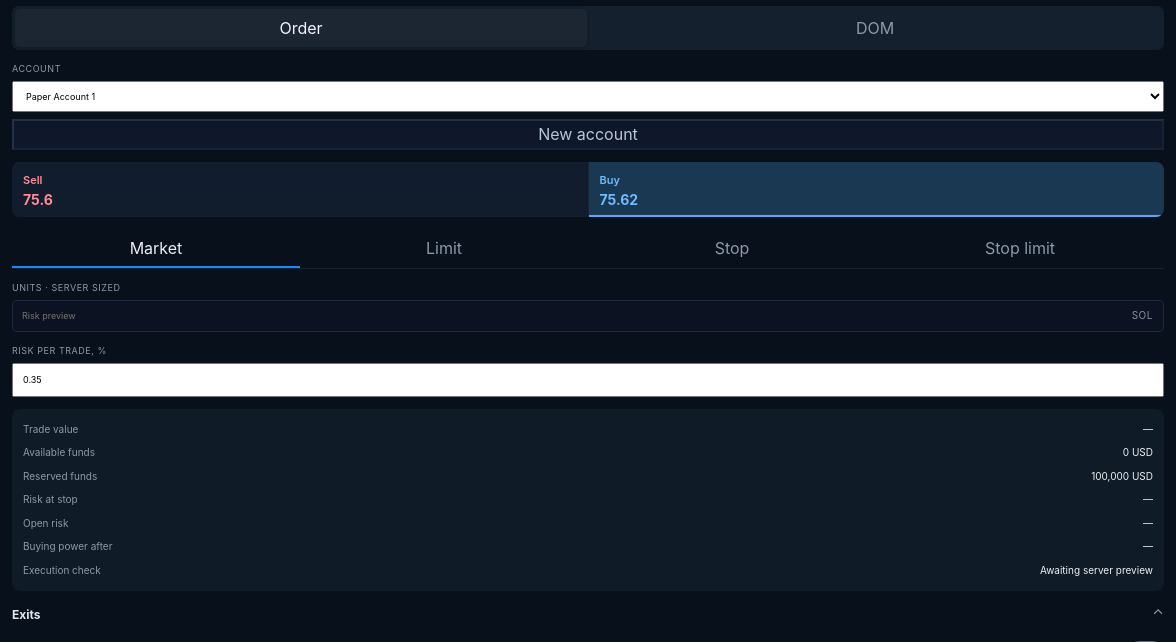
Test case: TradingPaperPanel › refuses a good-till-date expiry in the past
Click the button "Sell 75.6" at {"x": 33, "y": 180}, box top-left (12, 162), bottom-right (588, 217)
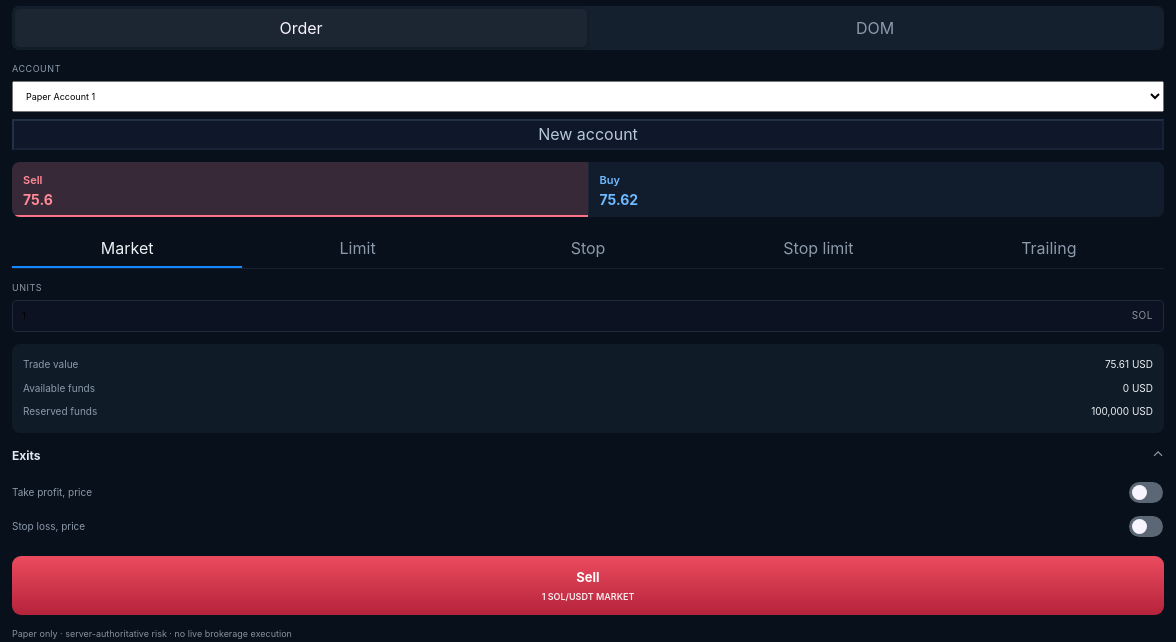
Click the tab "Limit" at {"x": 358, "y": 249}, box top-left (242, 229), bottom-right (473, 268)
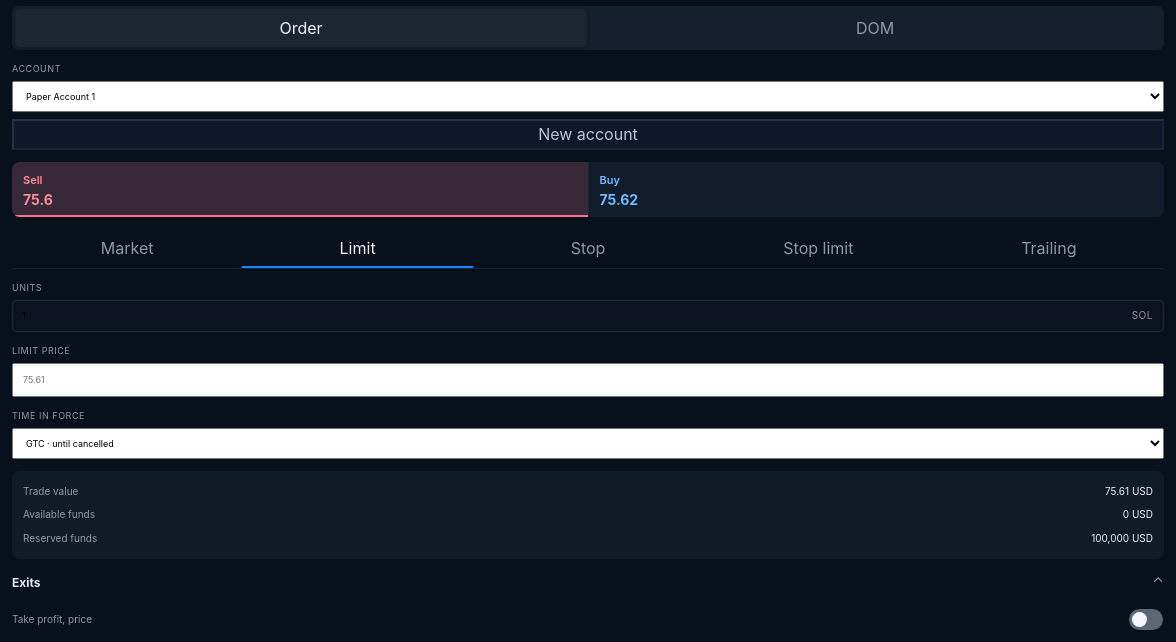
Type "80" into the field labelled "Limit price" at {"x": 588, "y": 380}, box top-left (12, 363), bottom-right (1164, 397)
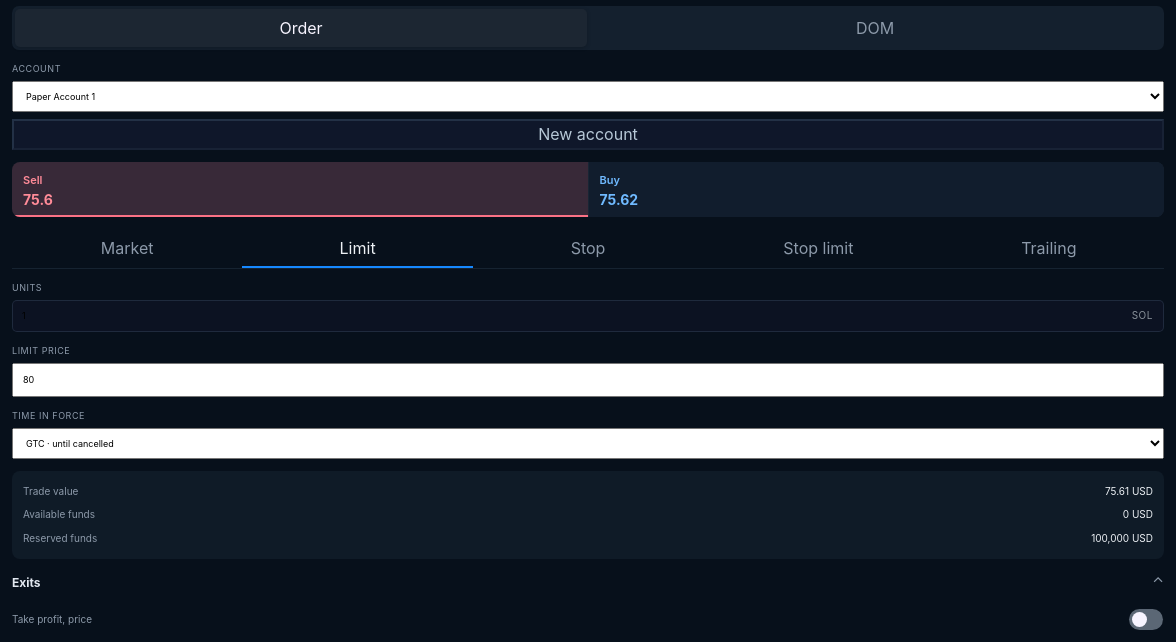
Select "GTD · until a date" in the dropdown labelled "Time in force" at {"x": 588, "y": 443}, box top-left (12, 428), bottom-right (1164, 459)
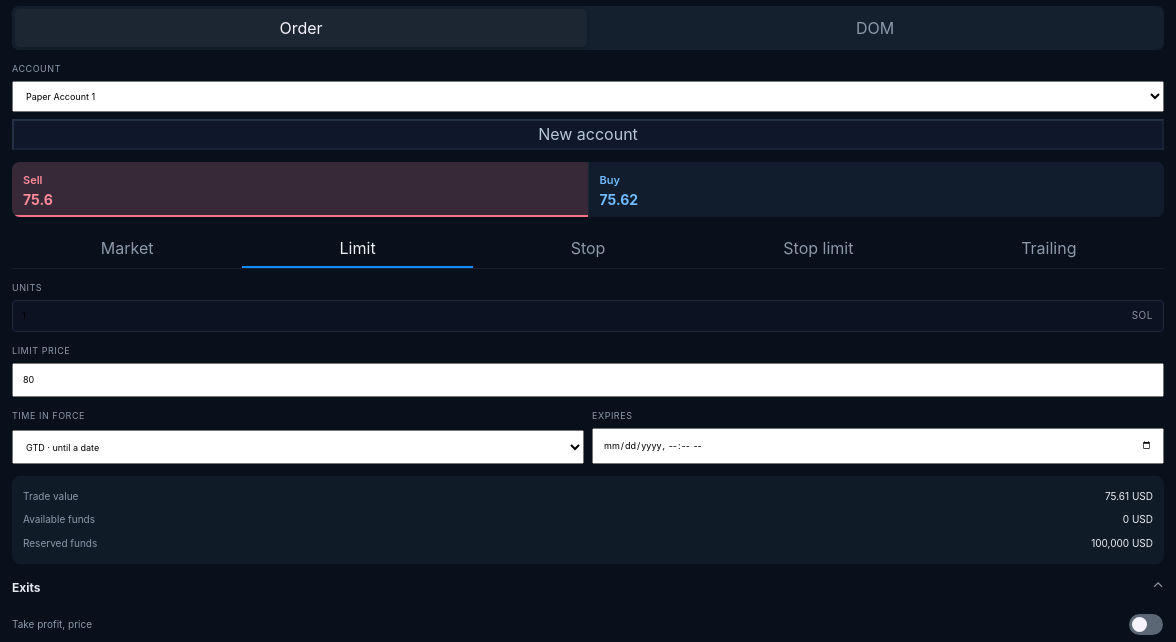
Type "2020-01-02T15:30" into the field named "Order expiry" at {"x": 878, "y": 446}, box top-left (592, 428), bottom-right (1164, 464)
(page scrolled)
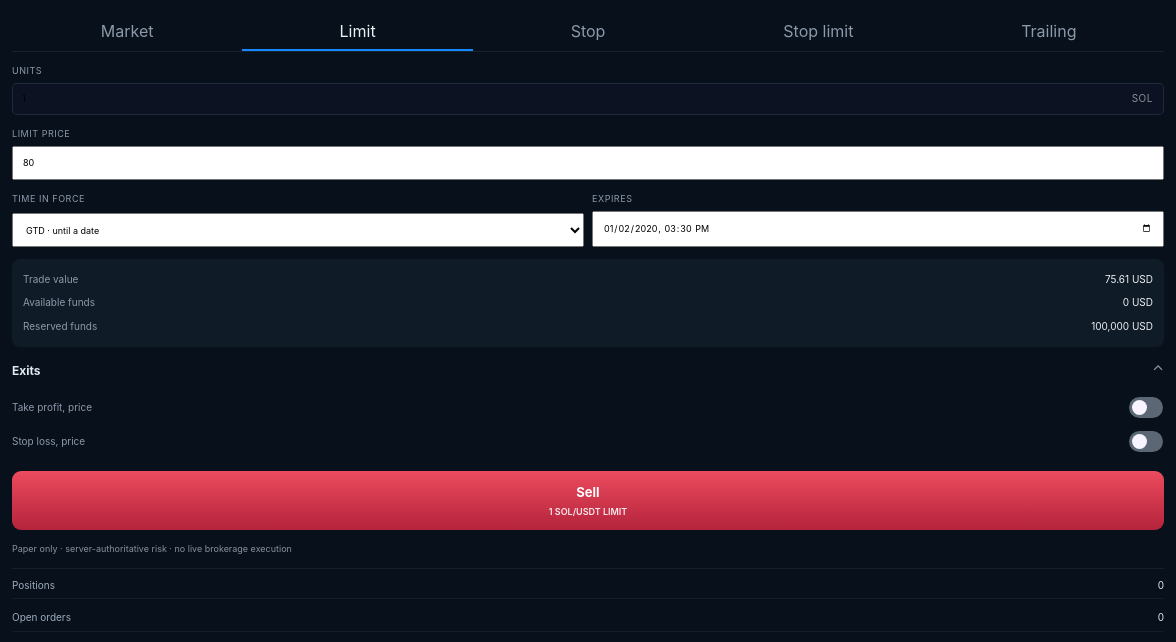
Click the button "Sell 1 SOL/USDT LIMIT" at {"x": 588, "y": 500}, box top-left (12, 471), bottom-right (1164, 530)
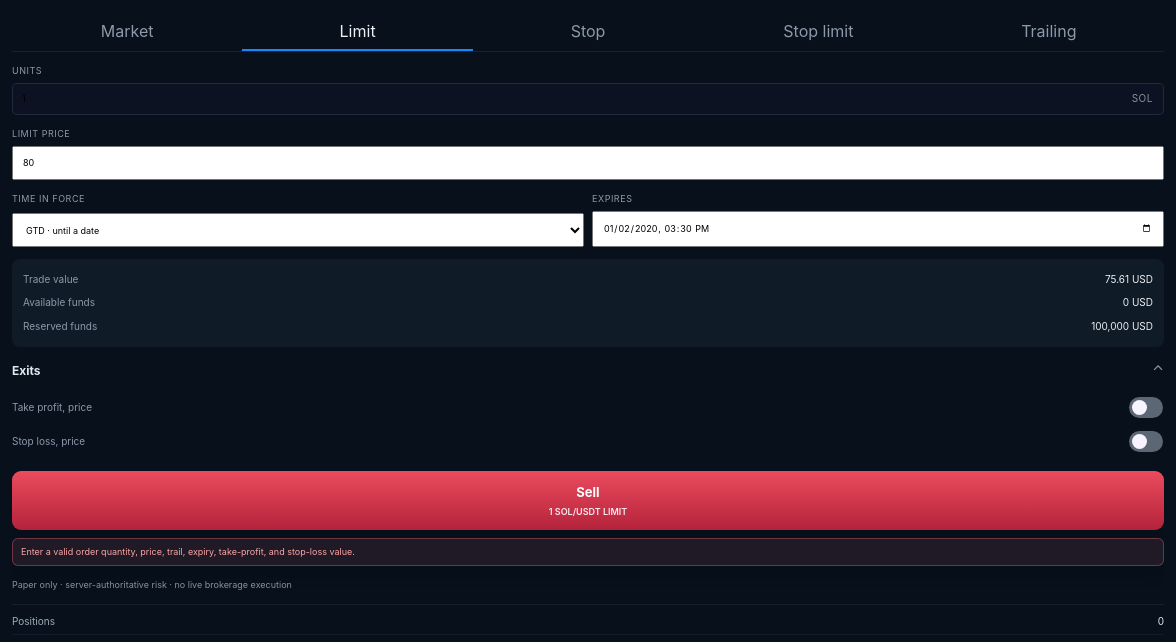
Result: the message shows "expiry" at top-left (21, 546), bottom-right (355, 557)
